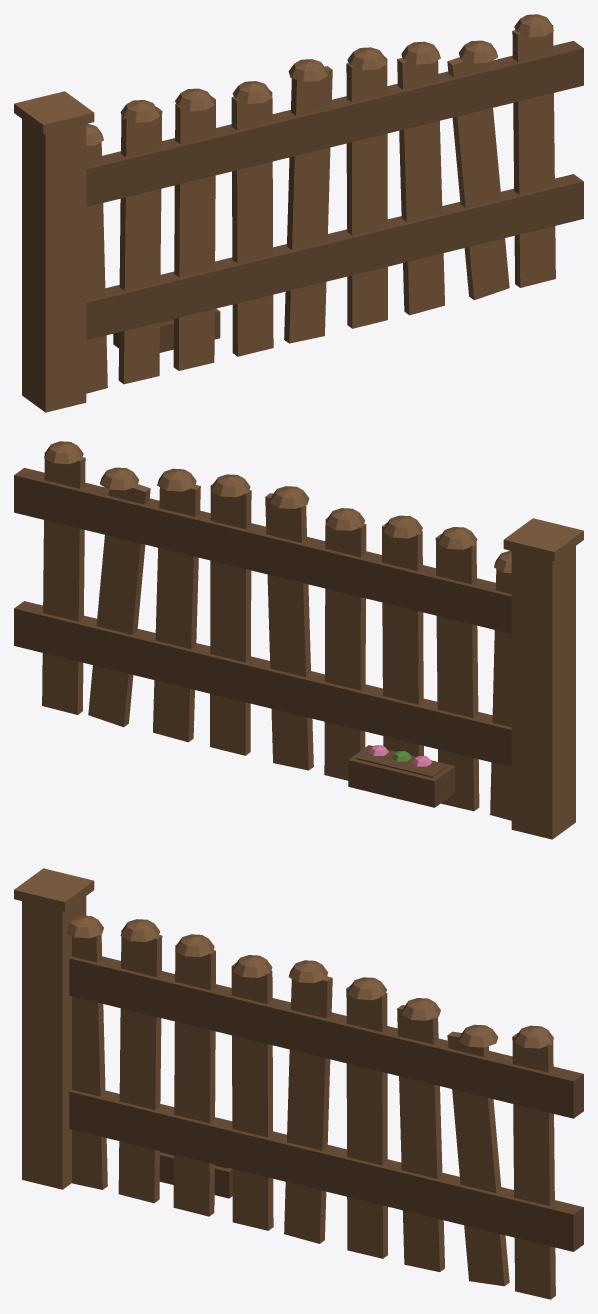
The model's file is SM_Fence_TavernPicket_02_Straight.glb.
3 views of the same model, one above another, from view 1: azimuth 30°, elevation 25°; view 2: azimuth 150°, elevation 25°; view 3: azimuth 330°, elevation 25° (orthographic).
Parts seen in each view (by area): view 1: SM_Fence_TavernPicket_02_Straight_RailTop, SM_Fence_TavernPicket_02_Straight_RailBot, SM_Fence_TavernPicket_02_Straight_Post, SM_Fence_TavernPicket_02_Straight_Pk4, SM_Fence_TavernPicket_02_Straight_Pk1, SM_Fence_TavernPicket_02_Straight_Pk2, SM_Fence_TavernPicket_02_Straight_Pk5, SM_Fence_TavernPicket_02_Straight_Pk3, SM_Fence_TavernPicket_02_Straight_Pk8, SM_Fence_TavernPicket_02_Straight_Pk6, SM_Fence_TavernPicket_02_Straight_Pk7, SM_Fence_TavernPicket_02_Straight_Pk0 (+10 smaller); view 2: SM_Fence_TavernPicket_02_Straight_RailTop, SM_Fence_TavernPicket_02_Straight_RailBot, SM_Fence_TavernPicket_02_Straight_Post, SM_Fence_TavernPicket_02_Straight_Pk4, SM_Fence_TavernPicket_02_Straight_Pk5, SM_Fence_TavernPicket_02_Straight_Pk8, SM_Fence_TavernPicket_02_Straight_Pk6, SM_Fence_TavernPicket_02_Straight_Pk1, SM_Fence_TavernPicket_02_Straight_Pk3, SM_Fence_TavernPicket_02_Straight_Pk7, SM_Fence_TavernPicket_02_Straight_Pk2, SM_Fence_TavernPicket_02_Straight_FlowerBox (+11 smaller); view 3: SM_Fence_TavernPicket_02_Straight_RailTop, SM_Fence_TavernPicket_02_Straight_RailBot, SM_Fence_TavernPicket_02_Straight_Post, SM_Fence_TavernPicket_02_Straight_Pk4, SM_Fence_TavernPicket_02_Straight_Pk1, SM_Fence_TavernPicket_02_Straight_Pk2, SM_Fence_TavernPicket_02_Straight_Pk5, SM_Fence_TavernPicket_02_Straight_Pk3, SM_Fence_TavernPicket_02_Straight_Pk8, SM_Fence_TavernPicket_02_Straight_Pk6, SM_Fence_TavernPicket_02_Straight_Pk7, SM_Fence_TavernPicket_02_Straight_Pk0 (+11 smaller).
Part boxes in pixels (<box>): SM_Fence_TavernPicket_02_Straight_RailTop: <box>86,41,583,206</box>; SM_Fence_TavernPicket_02_Straight_RailBot: <box>86,174,583,340</box>; SM_Fence_TavernPicket_02_Straight_Post: <box>22,119,86,412</box>; SM_Fence_TavernPicket_02_Straight_Pk4: <box>284,66,332,343</box>; SM_Fence_TavernPicket_02_Straight_Pk1: <box>118,107,162,384</box>; SM_Fence_TavernPicket_02_Straight_Pk2: <box>173,96,215,370</box>; SM_Fence_TavernPicket_02_Straight_Pk5: <box>346,56,387,328</box>; SM_Fence_TavernPicket_02_Straight_Pk3: <box>231,90,273,356</box>; SM_Fence_TavernPicket_02_Straight_Pk8: <box>512,24,555,287</box>; SM_Fence_TavernPicket_02_Straight_Pk6: <box>397,57,444,315</box>; SM_Fence_TavernPicket_02_Straight_Pk7: <box>447,57,509,300</box>; SM_Fence_TavernPicket_02_Straight_Pk0: <box>86,142,107,393</box>; SM_Fence_TavernPicket_02_Straight_RailTop: <box>14,468,511,633</box>; SM_Fence_TavernPicket_02_Straight_RailBot: <box>14,601,511,767</box>; SM_Fence_TavernPicket_02_Straight_Post: <box>511,546,575,839</box>; SM_Fence_TavernPicket_02_Straight_Pk4: <box>265,493,313,770</box>; SM_Fence_TavernPicket_02_Straight_Pk5: <box>210,483,251,755</box>; SM_Fence_TavernPicket_02_Straight_Pk8: <box>42,451,85,714</box>; SM_Fence_TavernPicket_02_Straight_Pk6: <box>153,484,200,742</box>; SM_Fence_TavernPicket_02_Straight_Pk1: <box>435,534,479,811</box>; SM_Fence_TavernPicket_02_Straight_Pk3: <box>324,517,366,780</box>; SM_Fence_TavernPicket_02_Straight_Pk7: <box>88,484,150,727</box>; SM_Fence_TavernPicket_02_Straight_Pk2: <box>382,523,423,756</box>; SM_Fence_TavernPicket_02_Straight_FlowerBox: <box>348,745,455,807</box>; SM_Fence_TavernPicket_02_Straight_RailTop: <box>69,956,583,1118</box>; SM_Fence_TavernPicket_02_Straight_RailBot: <box>69,1090,583,1251</box>; SM_Fence_TavernPicket_02_Straight_Post: <box>22,896,86,1189</box>; SM_Fence_TavernPicket_02_Straight_Pk4: <box>284,976,332,1243</box>; SM_Fence_TavernPicket_02_Straight_Pk1: <box>118,929,162,1203</box>; SM_Fence_TavernPicket_02_Straight_Pk2: <box>173,944,215,1216</box>; SM_Fence_TavernPicket_02_Straight_Pk5: <box>346,985,387,1258</box>; SM_Fence_TavernPicket_02_Straight_Pk3: <box>231,962,273,1230</box>; SM_Fence_TavernPicket_02_Straight_Pk8: <box>512,1033,555,1299</box>; SM_Fence_TavernPicket_02_Straight_Pk6: <box>397,1005,444,1271</box>; SM_Fence_TavernPicket_02_Straight_Pk7: <box>447,1031,509,1286</box>; SM_Fence_TavernPicket_02_Straight_Pk0: <box>72,934,107,1189</box>.
Bounding box in the file's own units: 2.16 × 1.1 × 0.27.
